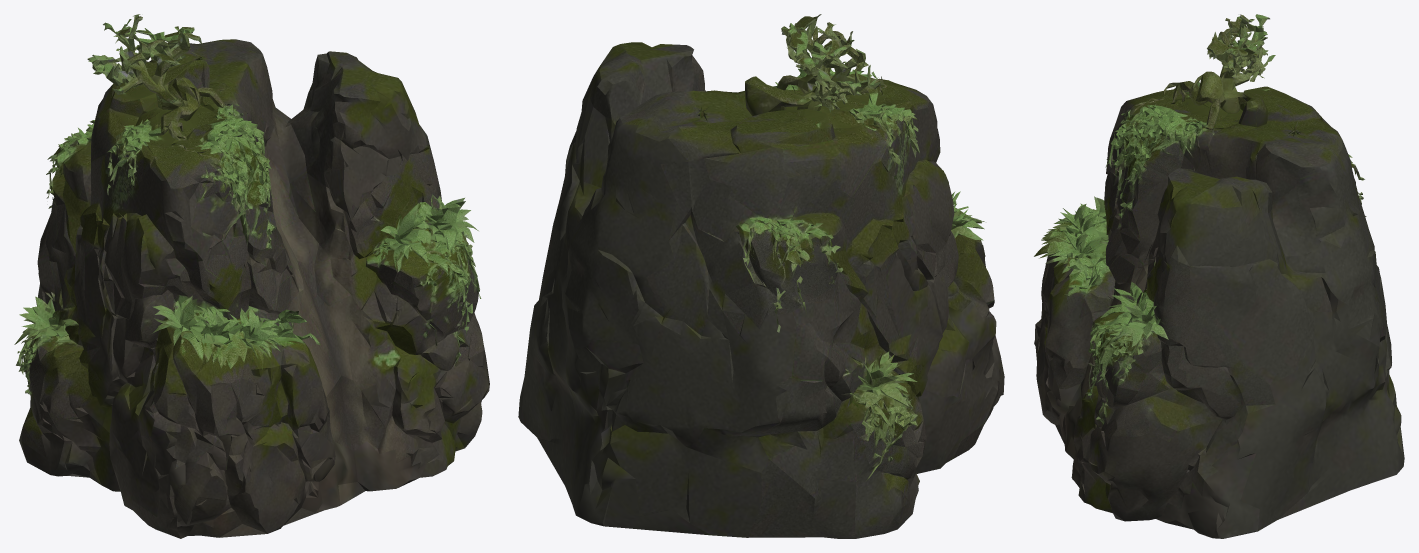
The model's file is sp_m_crag.glb.
3 views of the same model, side by side, from view 1: azimuth 30°, elevation 25°; view 2: azimuth 150°, elevation 25°; view 3: azimuth 270°, elevation 25° (orthographic). The views are drawn at different scales.
Parts seen in each view (by area): view 1: Mesh_0; view 2: Mesh_0; view 3: Mesh_0.
Boxes of the visible parts, x1=… form: Mesh_0: x1=14, y1=14, x2=489, y2=538; Mesh_0: x1=518, y1=14, x2=1004, y2=538; Mesh_0: x1=1034, y1=14, x2=1404, y2=538.
Size of the model in its own units: 1.82 by 1.9 by 1.62.
1 material, 1 textured.
